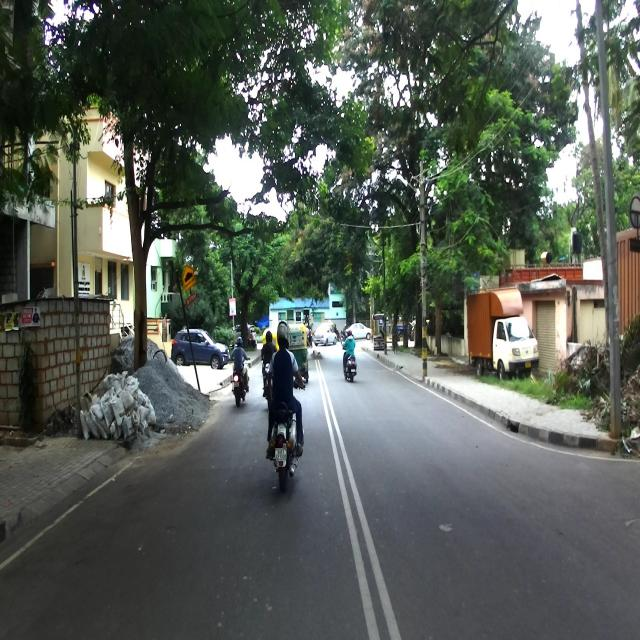motorcycle_RoyalEnfield: (264, 377, 305, 495)
scooter: (343, 351, 356, 384)
truck: (464, 285, 542, 378)
